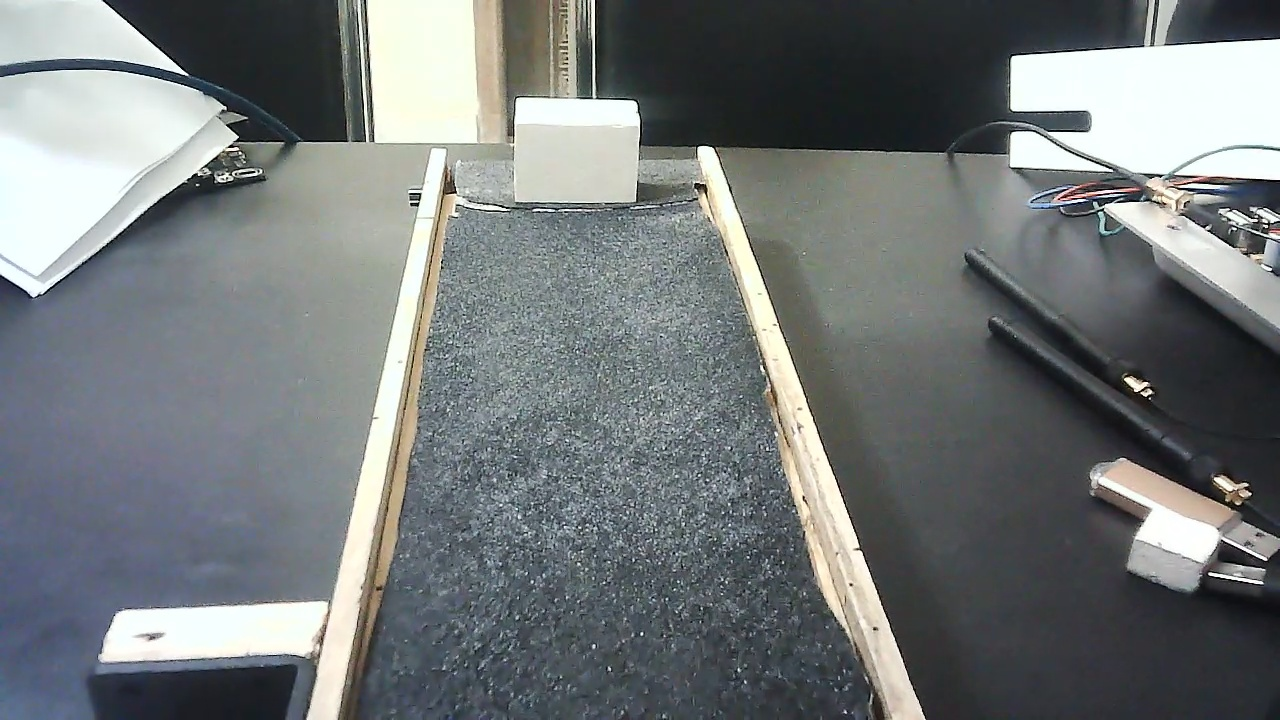BIG: (515, 91, 640, 216)
